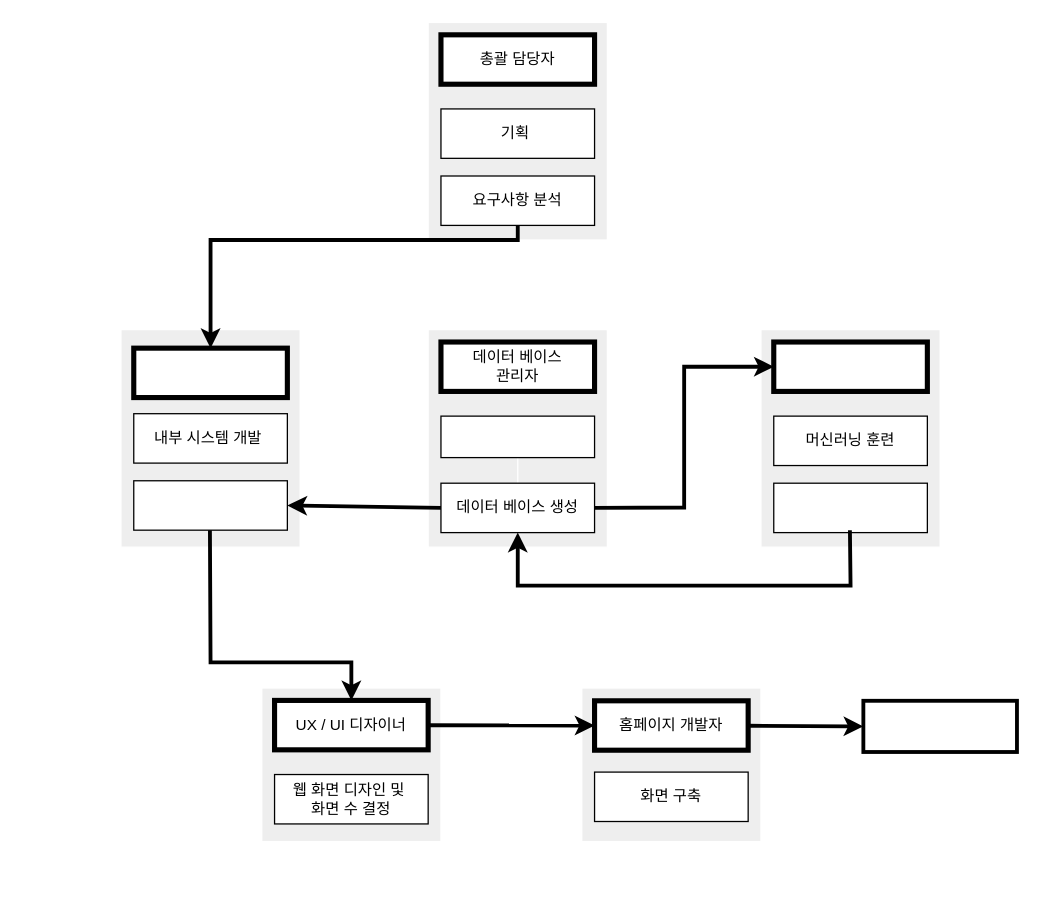
Some shapes in this 1041 by 900 pixel diagram are drawn without their labels. Here are the shapes that lost their labels. From the top down, the centre of each, then its label:
At pixel 210 372: "시스템 개발자".
At pixel 850 366: "머신러닝 담당자".
At pixel 517 436: "지진 데이터 수집".
At pixel 209 504: "데이터 베이스 연동".
At pixel 849 507: "훈련된 데이터 인계".
At pixel 939 725: "테스트".
